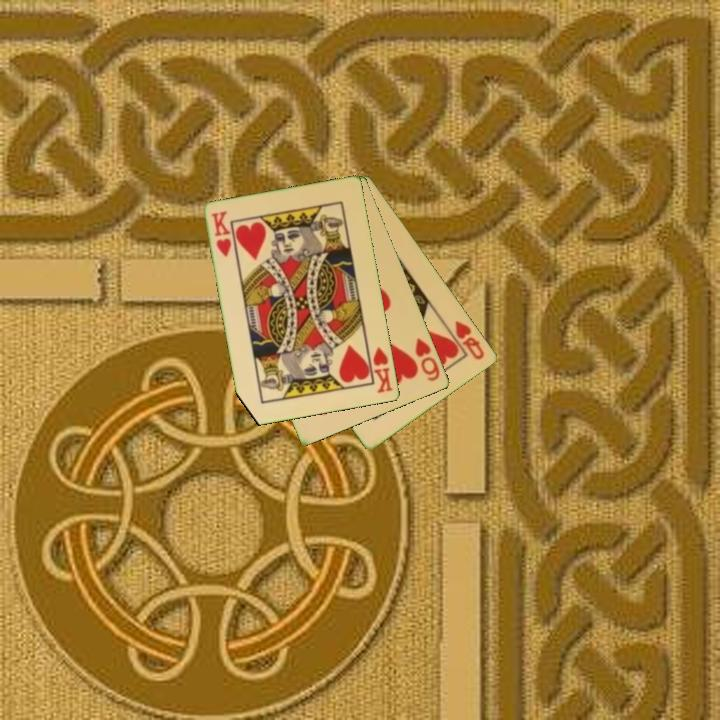6h: (412, 334, 443, 384)
Kh: (365, 342, 396, 396), (208, 208, 235, 260)
Qh: (452, 317, 488, 363)
